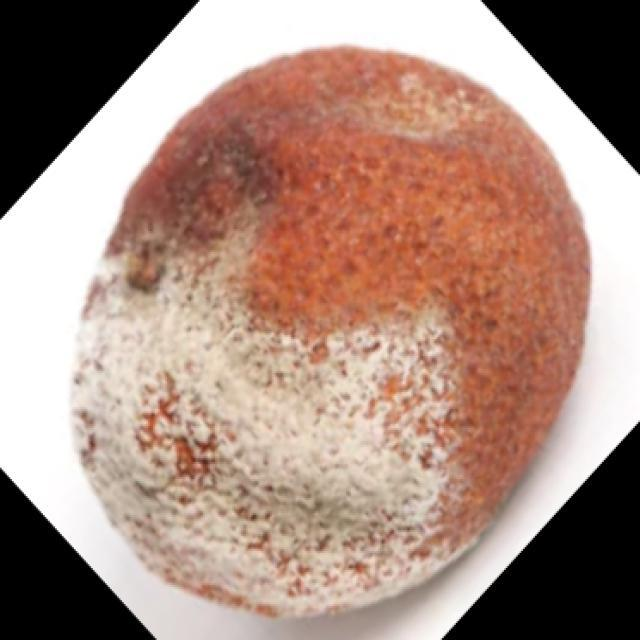sangat-busuk: (71, 48, 590, 616)
